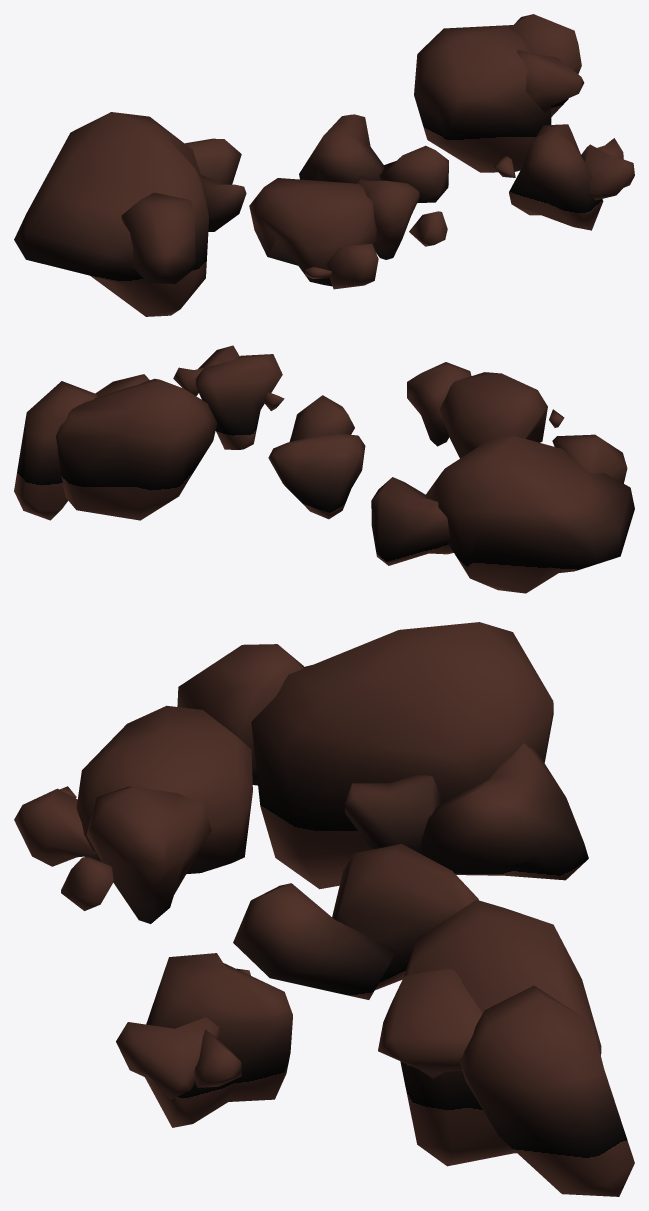
The model's file is Rocks1.glb.
3 views of the same model, one above another, from view 1: azimuth 30°, elevation 25°; view 2: azimuth 150°, elevation 25°; view 3: azimuth 270°, elevation 25° (orthographic). The views are drawn at different scales.
Visible parts, largest first — view 1: Rocks1.col; view 2: Rocks1.col; view 3: Rocks1.col.
Boxes of the visible parts, left/top/right/bottom form: Rocks1.col: left=14, top=14, right=634, bottom=316; Rocks1.col: left=14, top=345, right=634, bottom=593; Rocks1.col: left=14, top=622, right=634, bottom=1196.
Size of the model in its own units: 4.28 by 1.16 by 2.5.
Materials: 1 (1 with a texture image).
